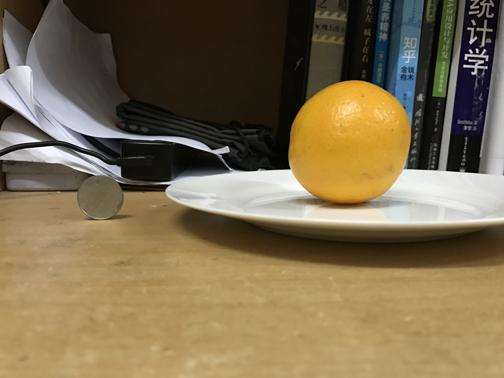coin: (76, 173, 124, 219)
orange: (290, 75, 410, 203)
